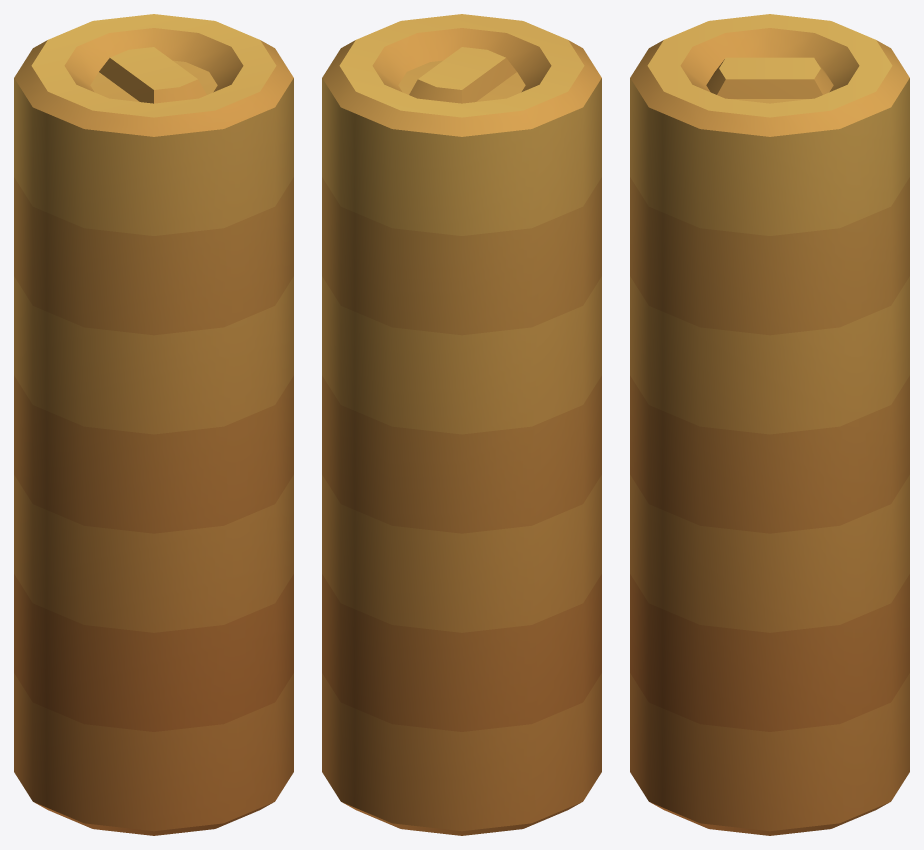
File: Money_Coins_Stack_Large.glb
The picture shows the model from 3 angles, left to right: view 1: azimuth 30°, elevation 25°; view 2: azimuth 150°, elevation 25°; view 3: azimuth 270°, elevation 25°; orthographic projection.
Parts seen in each view (by area): view 1: Money_Coins_Stack_Large; view 2: Money_Coins_Stack_Large; view 3: Money_Coins_Stack_Large.
Part boxes in pixels (bbox=[...]): Money_Coins_Stack_Large: bbox=[14, 14, 293, 835]; Money_Coins_Stack_Large: bbox=[322, 14, 601, 835]; Money_Coins_Stack_Large: bbox=[630, 14, 909, 835].
Size of the model in its own units: 0.247 by 0.7 by 0.247.
1 material, 1 textured.
